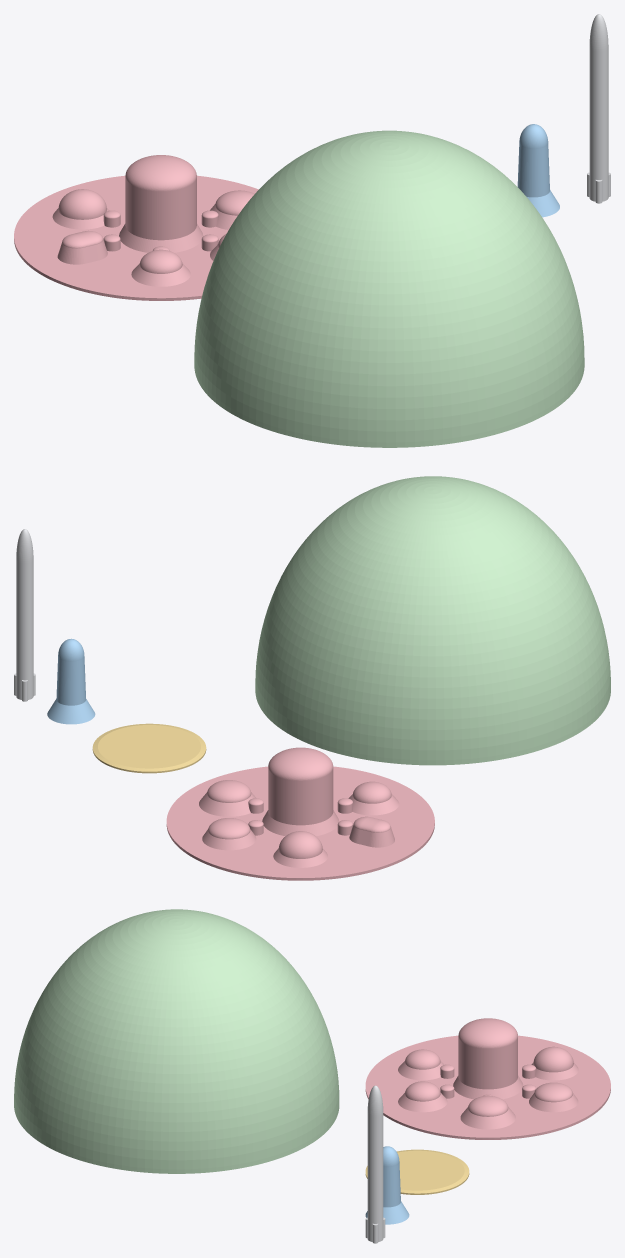
Rendered from display_extras_1to700.glb.
The picture shows the model from 3 angles, top to bottom: view 1: azimuth 30°, elevation 25°; view 2: azimuth 150°, elevation 25°; view 3: azimuth 270°, elevation 25°; orthographic projection. The views are drawn at different scales.
Visible parts, largest first — view 1: 04_Kingdom_Glass_Dome_COVER, 05_Mini_Project1_Base_on_plate, 01_Rocket, 03_Satellite_Tower_print_x7; view 2: 04_Kingdom_Glass_Dome_COVER, 05_Mini_Project1_Base_on_plate, 02_Landing_Pad, 01_Rocket, 03_Satellite_Tower_print_x7; view 3: 04_Kingdom_Glass_Dome_COVER, 05_Mini_Project1_Base_on_plate, 02_Landing_Pad, 01_Rocket, 03_Satellite_Tower_print_x7.
Boxes of the visible parts, x1,y1,x2,y2 form: 04_Kingdom_Glass_Dome_COVER: [194, 130, 584, 447]; 05_Mini_Project1_Base_on_plate: [14, 155, 258, 300]; 01_Rocket: [587, 14, 610, 203]; 03_Satellite_Tower_print_x7: [517, 124, 559, 217]; 04_Kingdom_Glass_Dome_COVER: [255, 476, 610, 765]; 05_Mini_Project1_Base_on_plate: [166, 747, 434, 880]; 02_Landing_Pad: [92, 723, 206, 773]; 01_Rocket: [14, 529, 35, 701]; 03_Satellite_Tower_print_x7: [47, 638, 95, 724]; 04_Kingdom_Glass_Dome_COVER: [14, 909, 339, 1173]; 05_Mini_Project1_Base_on_plate: [365, 1018, 610, 1139]; 02_Landing_Pad: [365, 1149, 469, 1194]; 01_Rocket: [365, 1085, 385, 1243]; 03_Satellite_Tower_print_x7: [365, 1146, 409, 1224].
Size of the model in its own units: 297 by 122 by 361.
